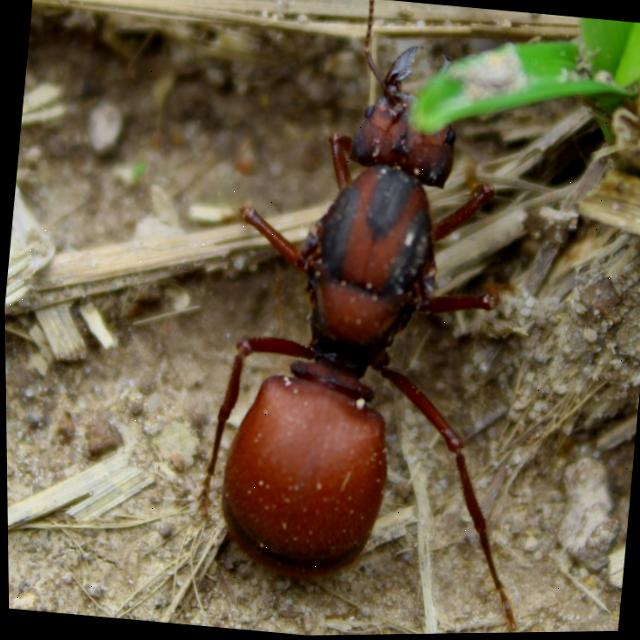Alive-Female-Dealate: (134, 0, 580, 638)
